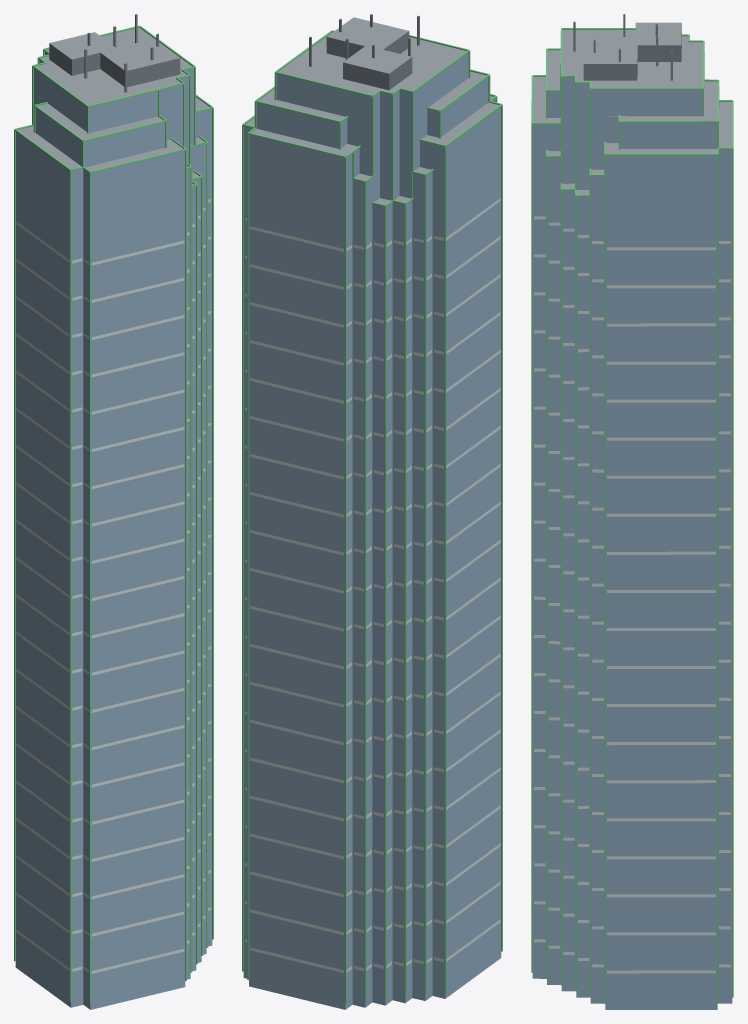
The model's file is dal-bank-of-america-plaza.glb.
The picture shows the model from 3 angles, left to right: view 1: azimuth 30°, elevation 25°; view 2: azimuth 150°, elevation 25°; view 3: azimuth 270°, elevation 25°; orthographic projection. The views are drawn at different scales.
Parts seen in each view (by area): view 1: Bank of America Plaza; view 2: Bank of America Plaza; view 3: Bank of America Plaza.
Part boxes in pixels (x1,y1,x2,y2): Bank of America Plaza: (14,14,213,1009); Bank of America Plaza: (242,14,502,1009); Bank of America Plaza: (531,14,733,1009).
Size of the model in its own units: 55.01 by 281 by 54.95.
